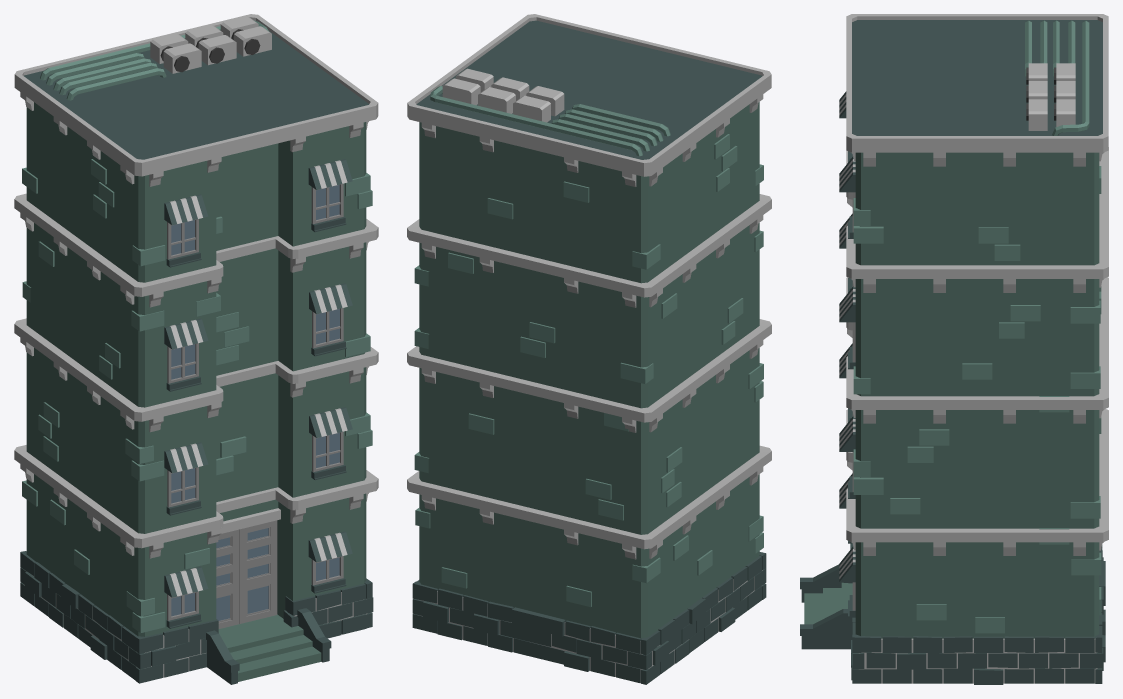
The model's file is 4Story_Center_Mat.glb.
The picture shows the model from 3 angles, left to right: view 1: azimuth 30°, elevation 25°; view 2: azimuth 150°, elevation 25°; view 3: azimuth 270°, elevation 25°; orthographic projection. The views are drawn at different scales.
Parts seen in each view (by area): view 1: 4Story_Center_Mat; view 2: 4Story_Center_Mat; view 3: 4Story_Center_Mat.
Part boxes in pixels (x1,y1,x2,y2): 4Story_Center_Mat: [14, 14, 378, 684]; 4Story_Center_Mat: [407, 14, 771, 684]; 4Story_Center_Mat: [800, 14, 1108, 684].
Size of the model in its own units: 2.42 by 5.09 by 2.53.
